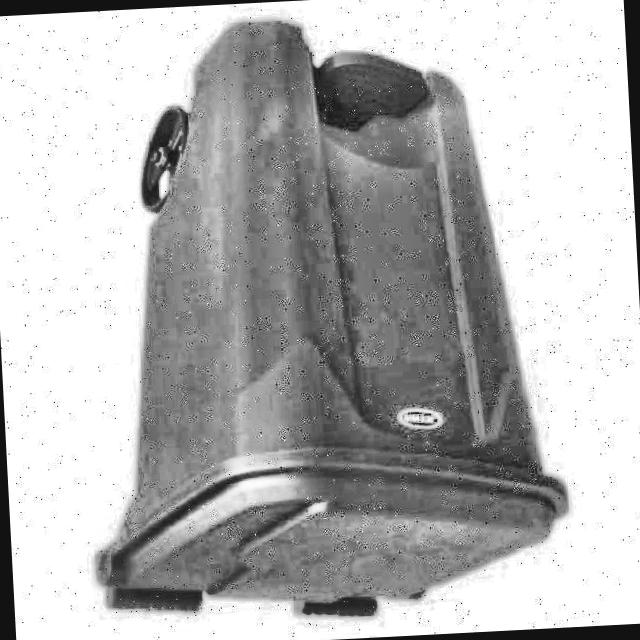Dustbin: (49, 2, 589, 640)
